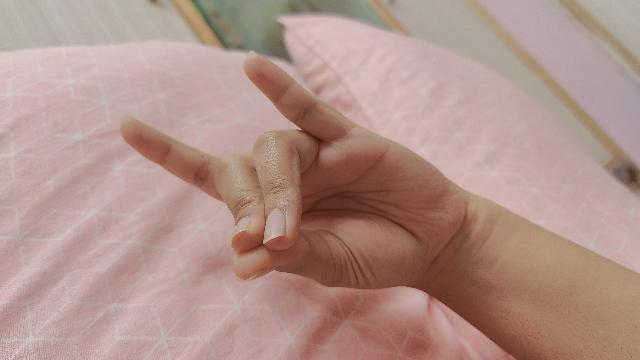sinhamukh: (116, 54, 640, 360)
